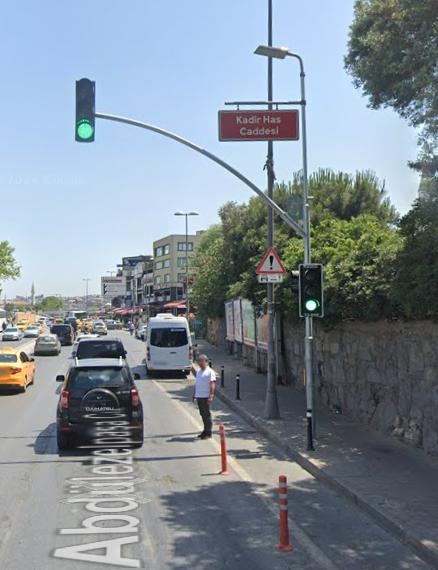greenlight: (295, 258, 328, 324), (72, 77, 99, 148)
